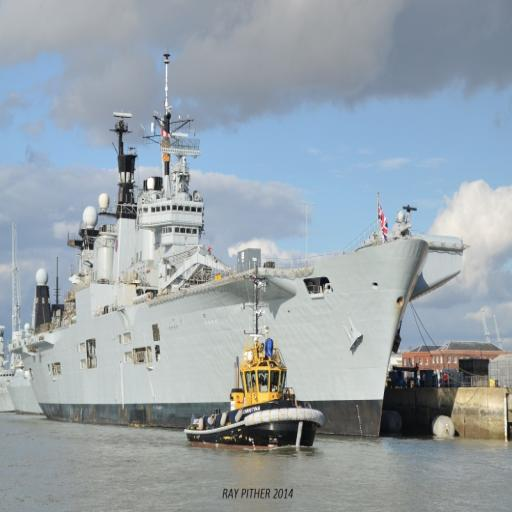Portanaves: (14, 36, 469, 444)
